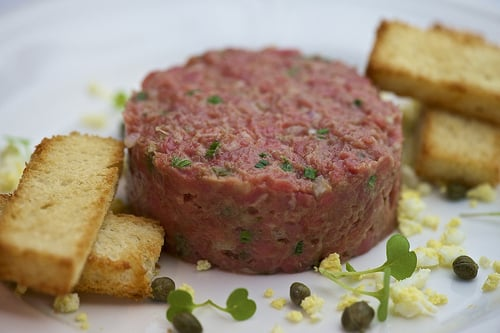soup: (117, 45, 405, 275), (0, 132, 165, 307)
